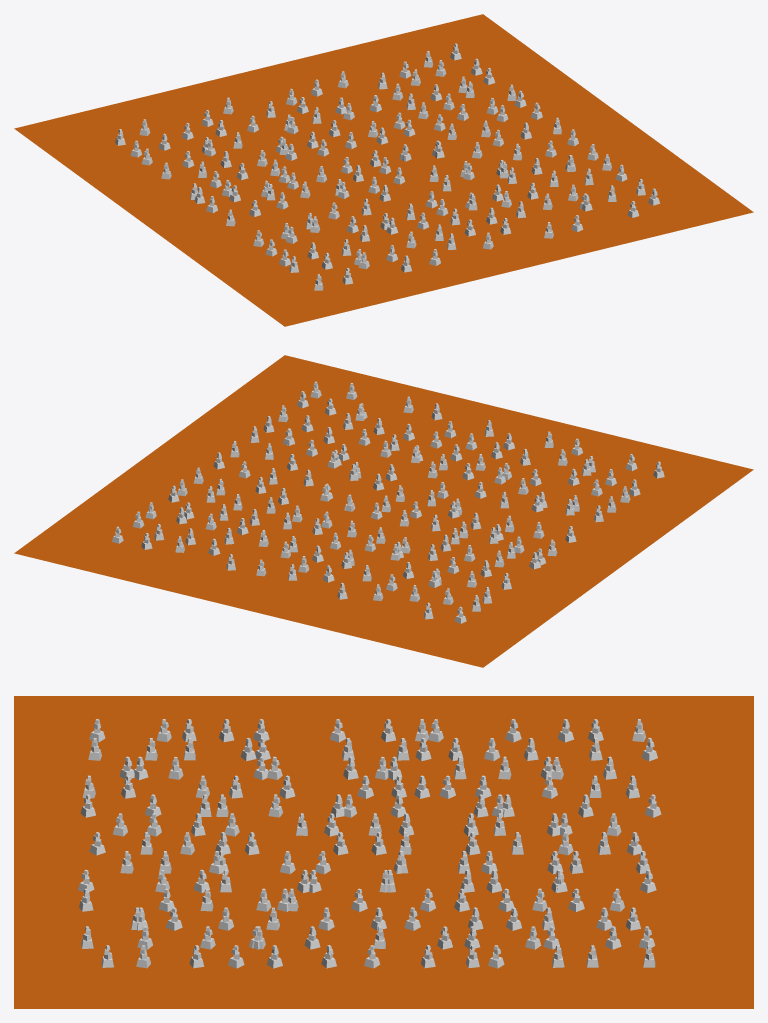
The model's file is Map.fbx.
The picture shows the model from 3 angles, top to bottom: view 1: azimuth 30°, elevation 25°; view 2: azimuth 150°, elevation 25°; view 3: azimuth 270°, elevation 25°; orthographic projection. The views are drawn at different scales.
Parts seen in each view (by area): view 1: Ground, array_of_abstacle; view 2: Ground, array_of_abstacle; view 3: Ground, array_of_abstacle.
Boxes of the visible parts, x1,y1,x2,y2 form: Ground: (14, 14, 753, 326); array_of_abstacle: (115, 43, 659, 290); Ground: (14, 355, 753, 667); array_of_abstacle: (112, 381, 664, 623); Ground: (14, 696, 753, 1008); array_of_abstacle: (78, 719, 661, 968).
Size of the model in its own units: 24897 by 758 by 24897.
